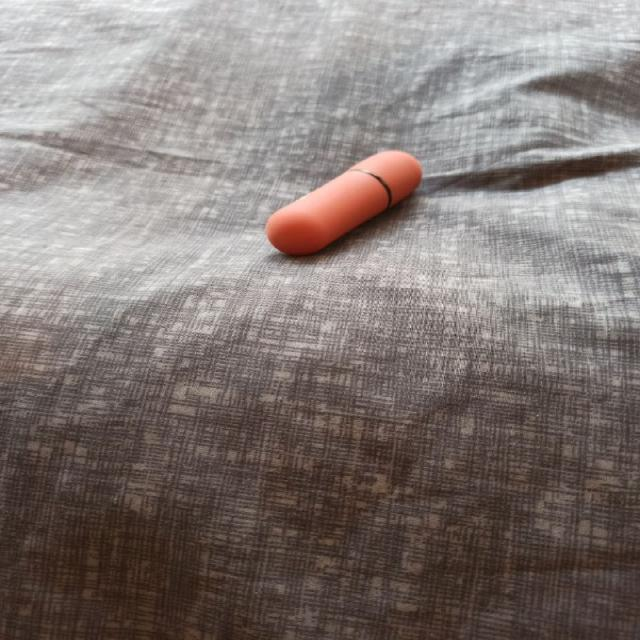lipstick: (264, 149, 422, 256)
